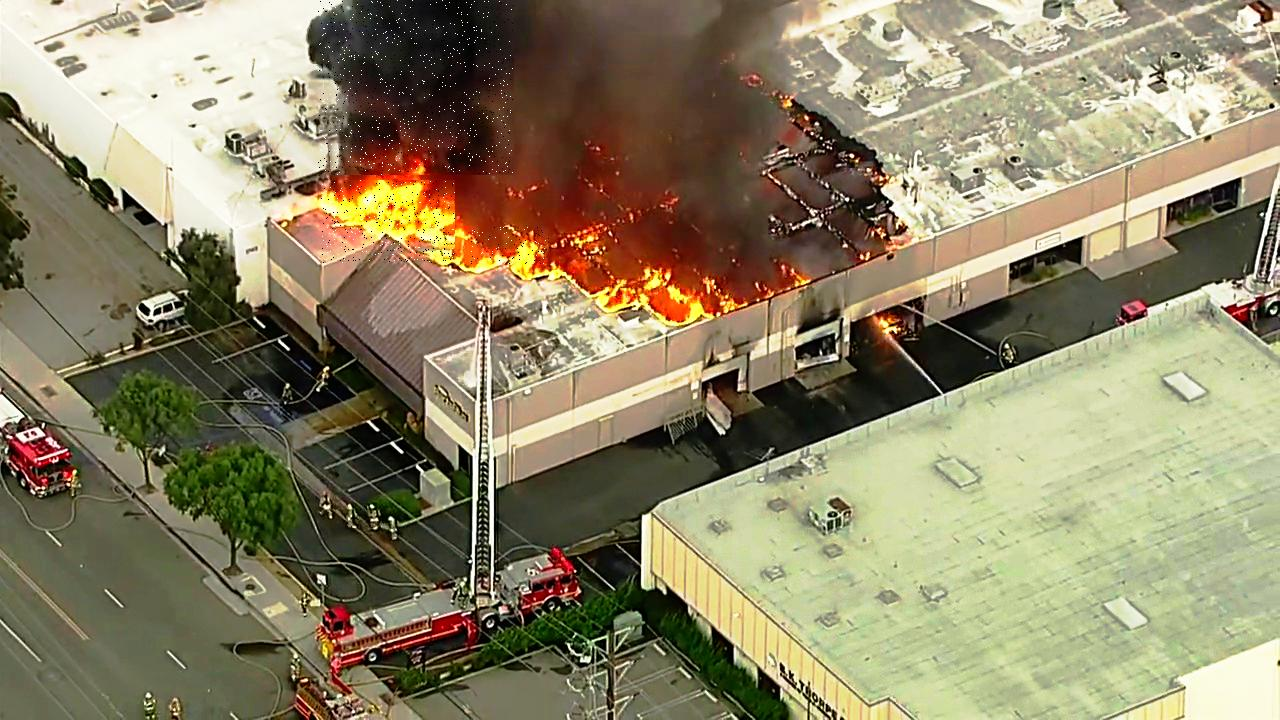fire: (319, 180, 455, 263), (470, 227, 550, 264)
smoke: (318, 0, 514, 175)
